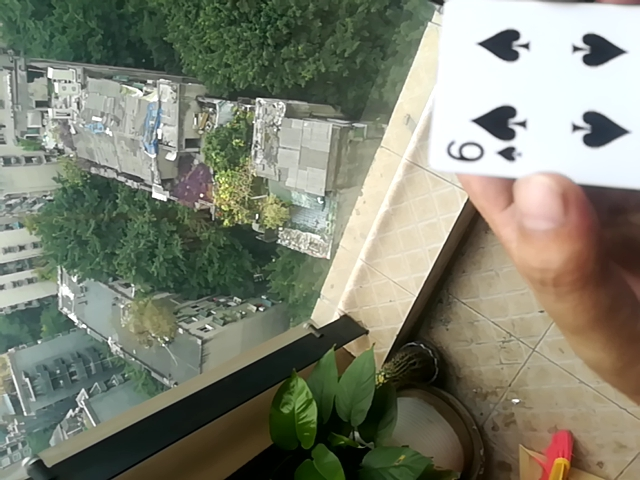ht 6: (422, 0, 639, 198)
